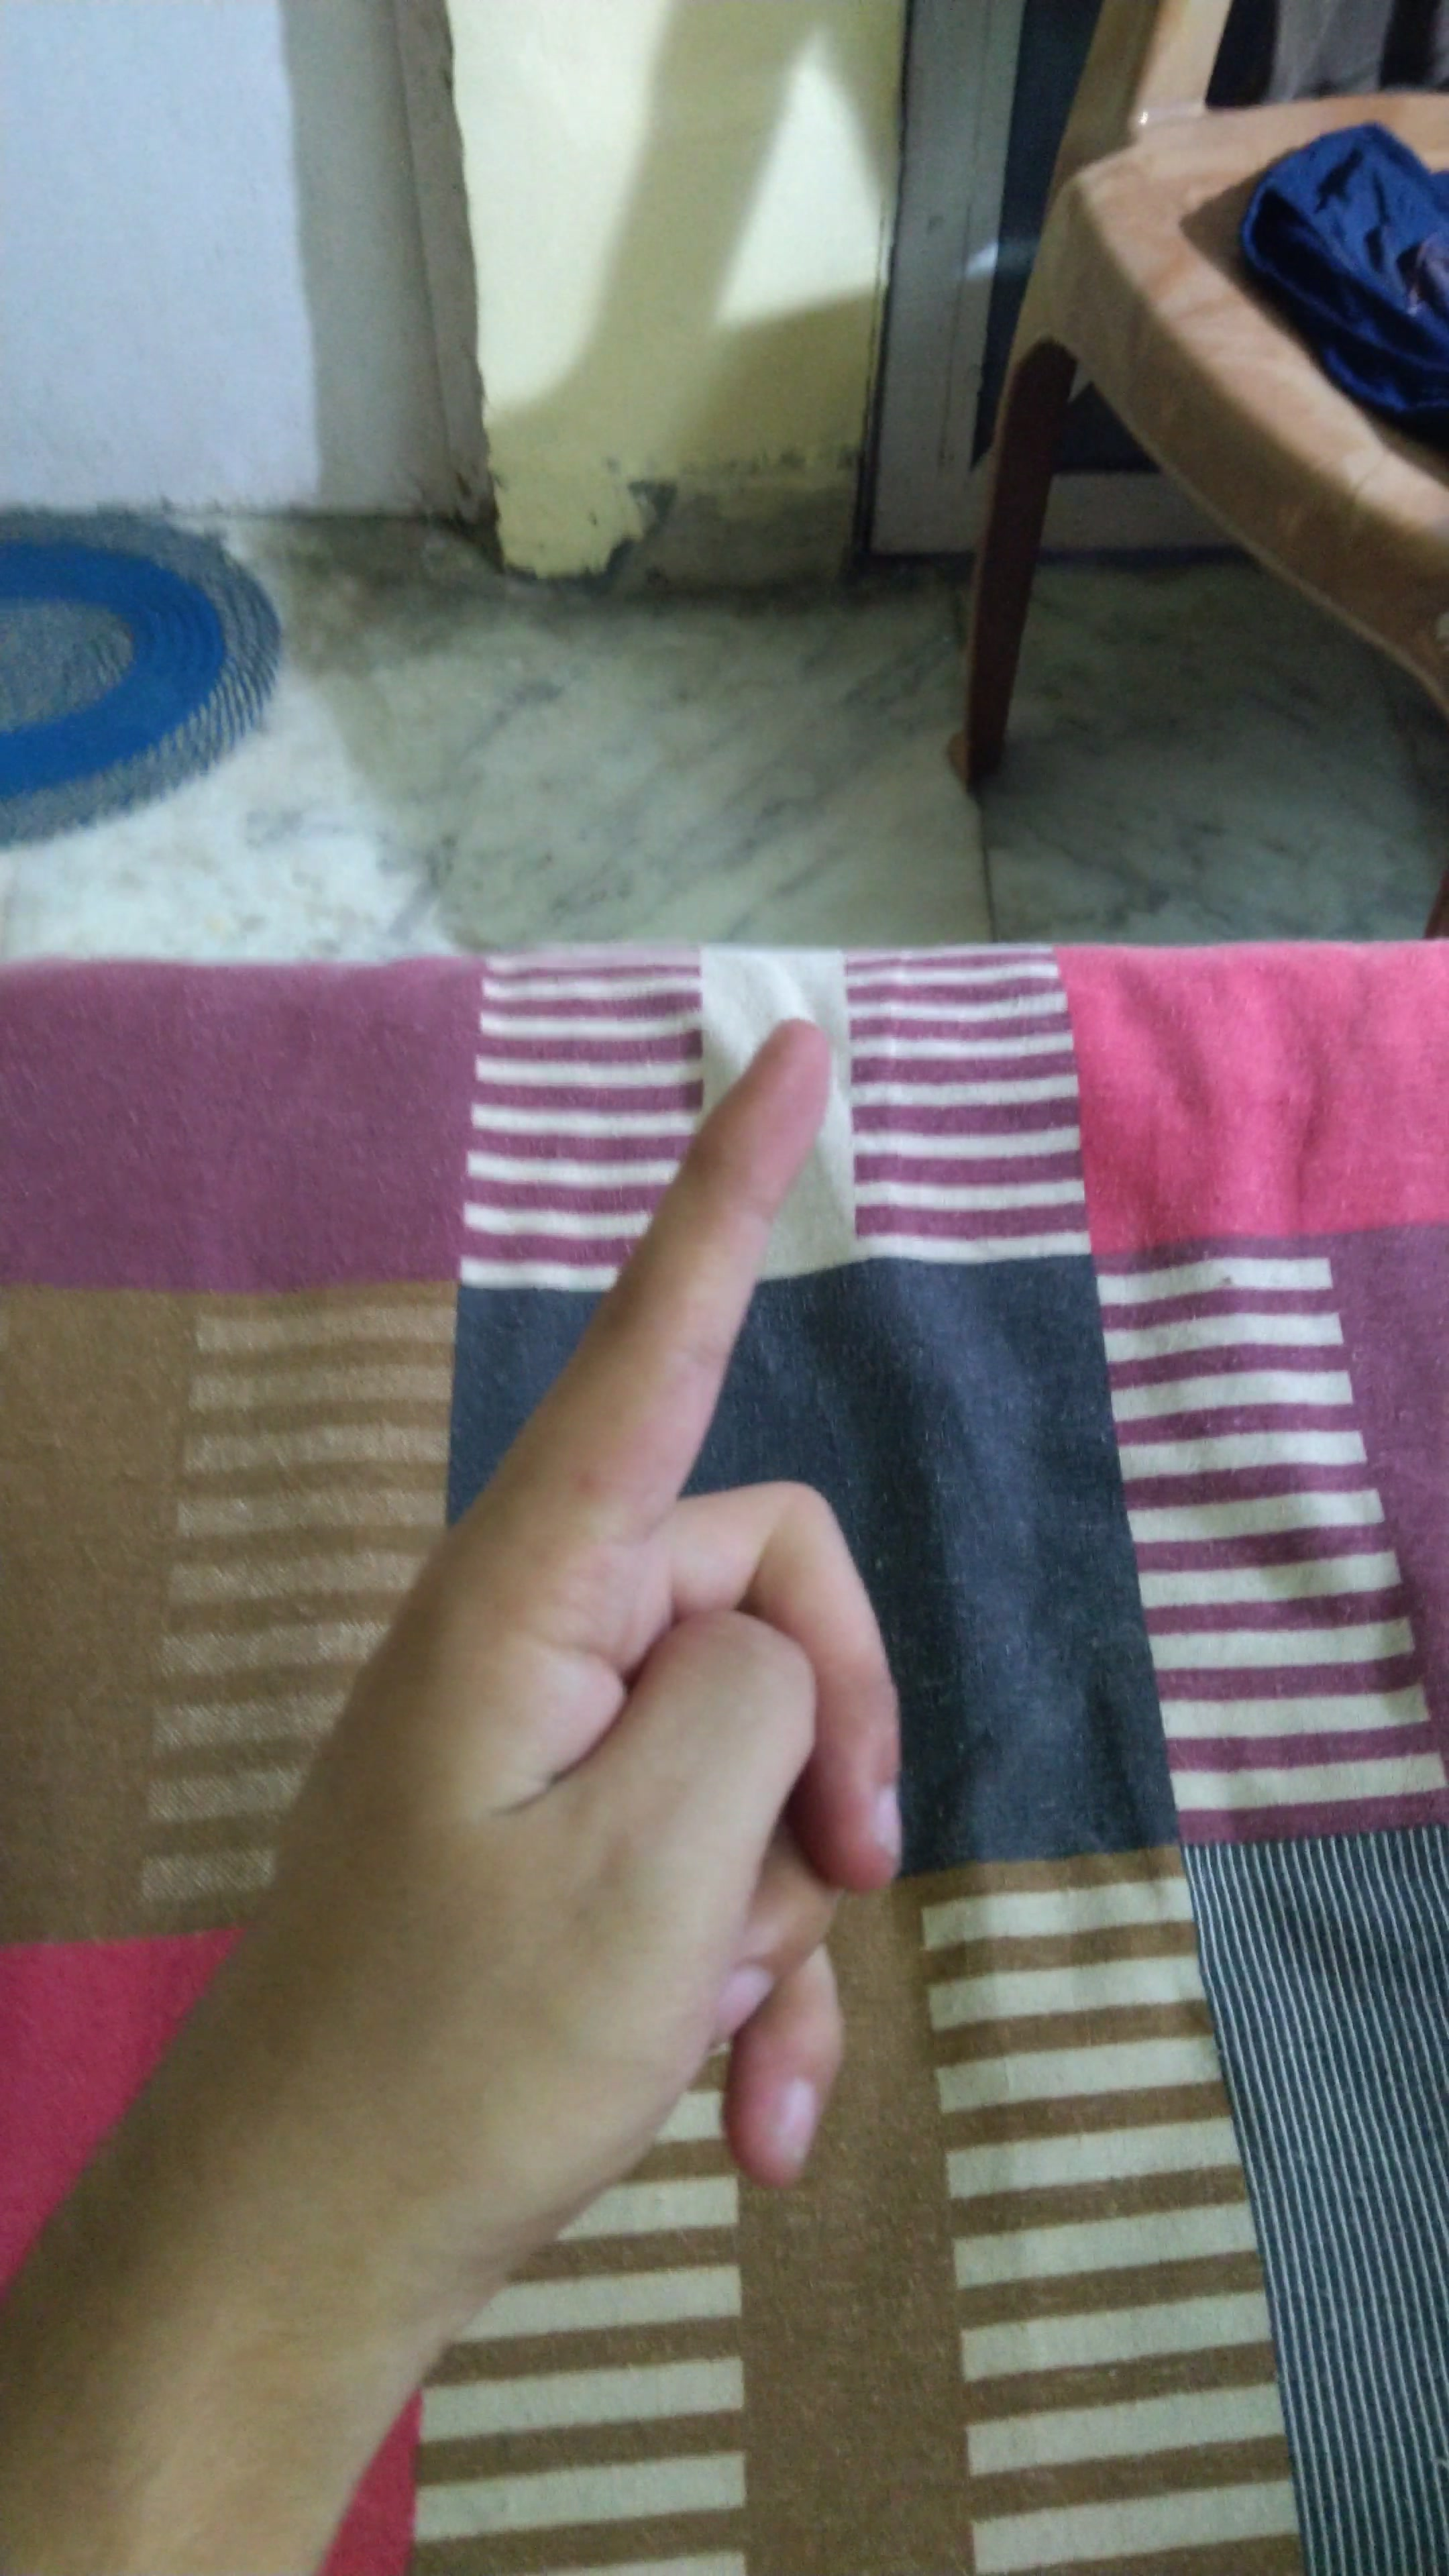hand: (166, 975, 1000, 2282)
